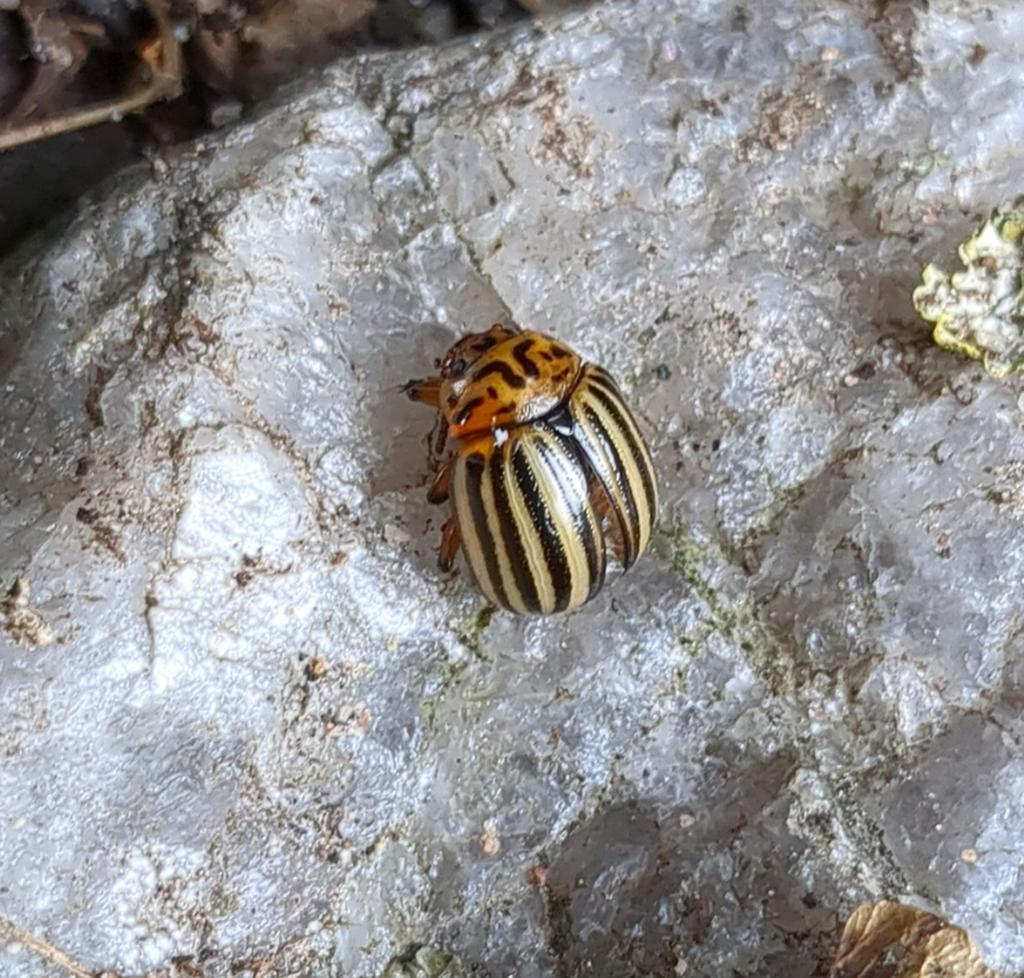potato_beetle: (333, 237, 724, 668)
